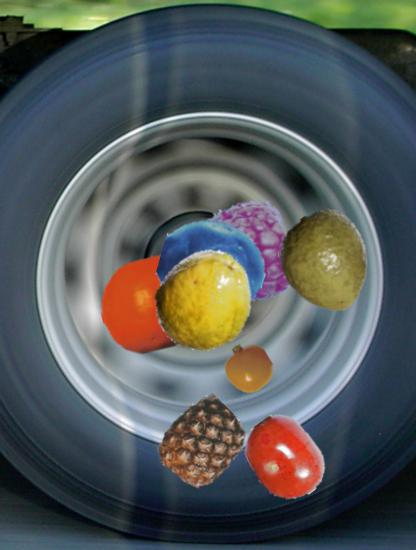Cherry: (241, 415, 329, 503)
Clementine: (100, 248, 211, 359)
Guava: (151, 247, 256, 352), (276, 212, 377, 313)
Huckleberry: (159, 217, 265, 323)
Physalis: (222, 341, 275, 394)
Pineapple: (159, 400, 246, 487)
Raspberry: (186, 197, 297, 308)
